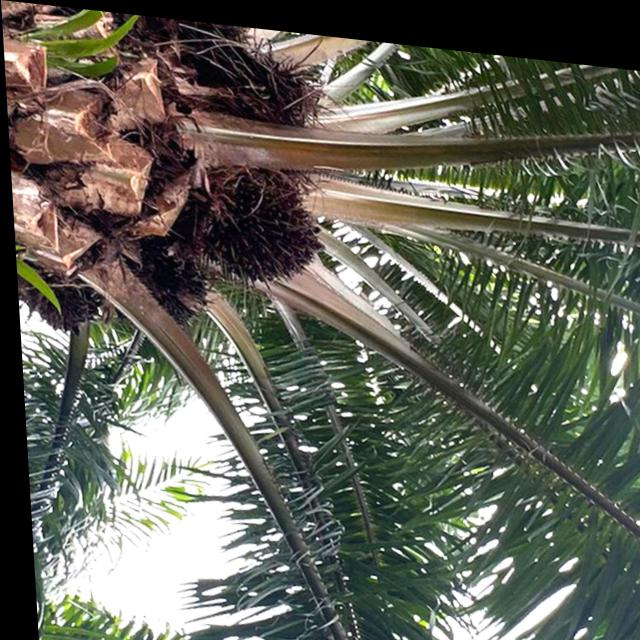almost: (189, 158, 327, 288), (120, 238, 211, 334), (12, 266, 109, 339)
